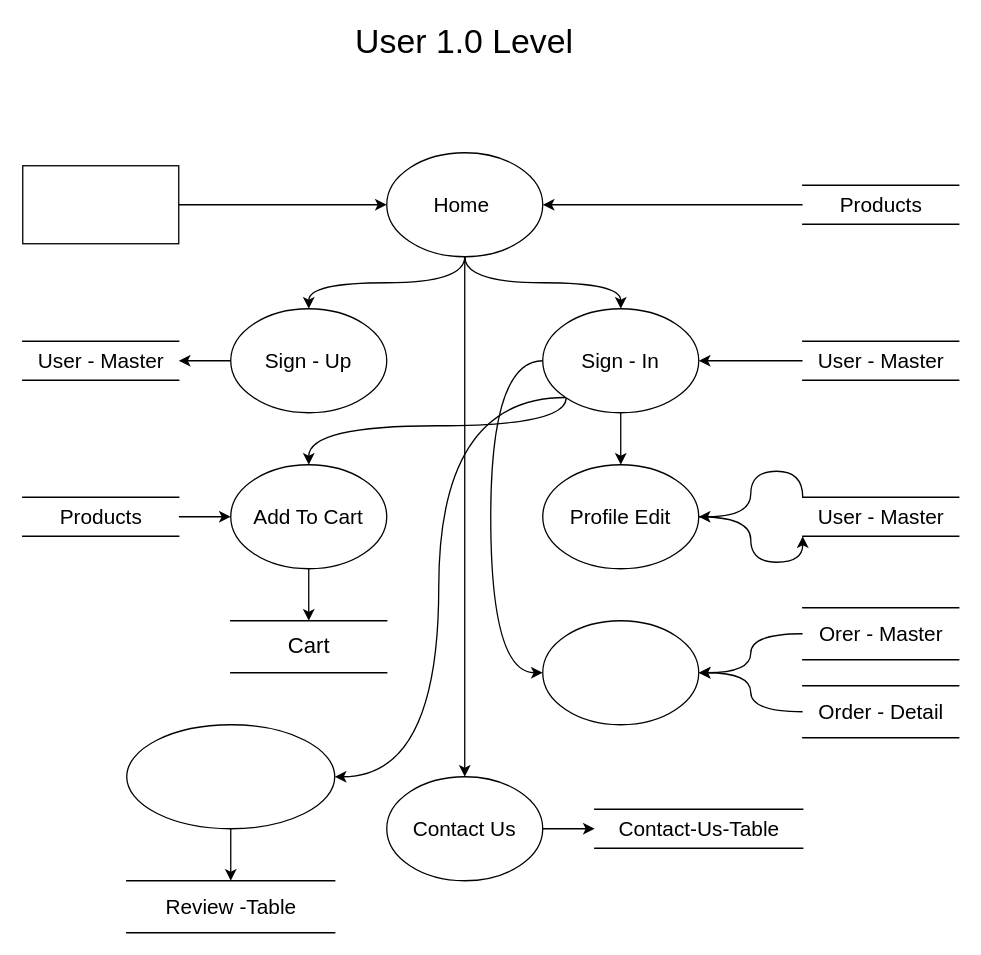
Some shapes in this 981 by 955 pixel diagram are drawn without their labels. Here are the shapes that lost their labels. From the top down, the centre of each, then its label:
point (100, 204): User
point (620, 672): My Order
point (230, 776): Give Reviews To Products
